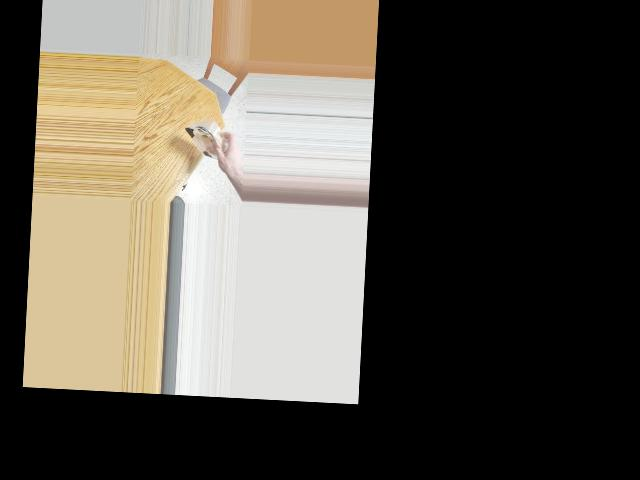cheese: (183, 112, 227, 171)
